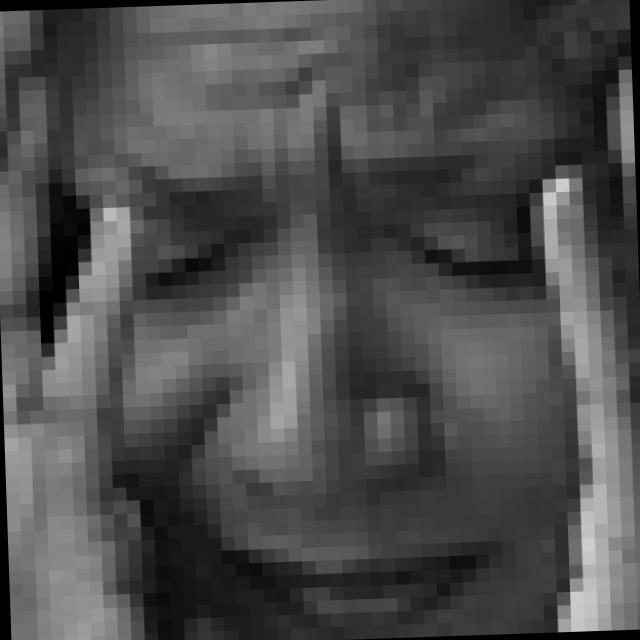sad: (83, 75, 560, 640)
